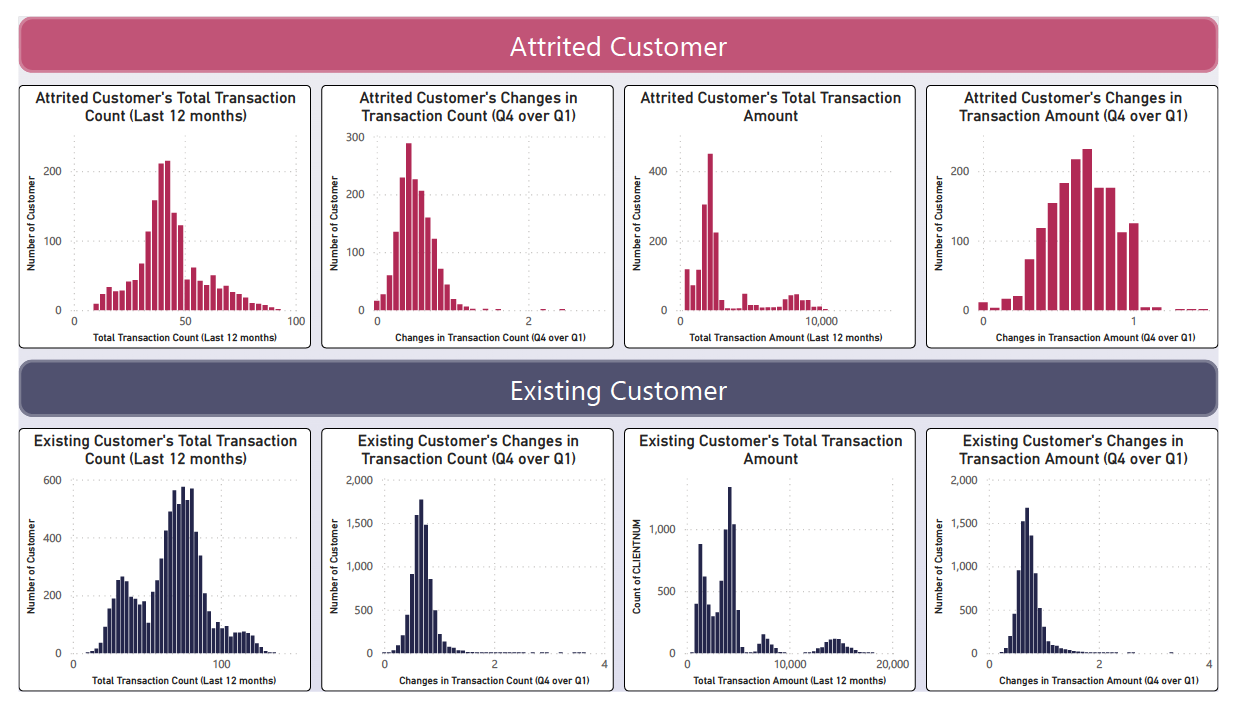

What the dashboard file says about the page in this screenshot:
{"tool":"powerbi","page":{"name":"Transaction Analysis","canvas":[1280,720],"ordinal":3},"visuals":[{"type":"shape","box":[0.5,366.5,1279.8,60.4],"z":0},{"type":"clusteredColumnChart","title":"Existing Customer''s Total Transaction Count (Last 12 months)","fields":{"Category":["BankChurners.Total_Trans_Ct (bins)"],"Y":["CountNonNull(BankChurners.CLIENTNUM)"]},"box":[0.2,439.2,311.6,280.8],"z":1000},{"type":"clusteredColumnChart","title":"Existing Customer''s Changes in Transaction Amount (Q4 over Q1)","fields":{"Category":["BankChurners.Total_Amt_Chng_Q4_Q1 (bins)"],"Y":["CountNonNull(BankChurners.CLIENTNUM)"]},"box":[968.4,439.2,311.6,280.8],"z":2000},{"type":"clusteredColumnChart","title":"Existing Customer''s Total Transaction Amount","fields":{"Category":["BankChurners.Total_Trans_Amt (bins)"],"Y":["CountNonNull(BankChurners.CLIENTNUM)"]},"box":[645.7,439.2,311.6,280.8],"z":3000},{"type":"clusteredColumnChart","title":"Existing Customer''s Changes in Transaction Count (Q4 over Q1)","fields":{"Category":["BankChurners.Total_Ct_Chng_Q4_Q1 (bins)"],"Y":["CountNonNull(BankChurners.CLIENTNUM)"]},"box":[322.9,439.2,311.6,280.8],"z":4000},{"type":"shape","box":[0.2,0,1279.8,60.4],"z":5000},{"type":"clusteredColumnChart","title":"Attrited Customer''s Total Transaction Count (Last 12 months)","fields":{"Category":["BankChurners.Total_Trans_Ct (bins)"],"Y":["CountNonNull(BankChurners.CLIENTNUM)"]},"box":[0.2,73.1,311.6,280.8],"z":6000},{"type":"clusteredColumnChart","title":"Attrited Customer''s Changes in Transaction Amount (Q4 over Q1)","fields":{"Category":["BankChurners.Total_Amt_Chng_Q4_Q1 (bins)"],"Y":["CountNonNull(BankChurners.CLIENTNUM)"]},"box":[968.4,73.1,311.6,280.8],"z":7000},{"type":"clusteredColumnChart","title":"Attrited Customer''s Total Transaction Amount","fields":{"Category":["BankChurners.Total_Trans_Amt (bins)"],"Y":["CountNonNull(BankChurners.CLIENTNUM)"]},"box":[645.7,73.1,311.6,280.8],"z":8000},{"type":"clusteredColumnChart","title":"Attrited Customer''s Changes in Transaction Count (Q4 over Q1)","fields":{"Category":["BankChurners.Total_Ct_Chng_Q4_Q1 (bins)"],"Y":["CountNonNull(BankChurners.CLIENTNUM)"]},"box":[322.9,73.1,311.6,280.8],"z":9000}]}

Visuals, with their boxes in screenshot pixels (x1, y1, x2, y2), scaled from the page's 1280x720 canvas onto the 1237x710 screenshot:
shape: 0, 361, 1236, 421
"Existing Customer''s Total Transaction Count (Last 12 months)" clusteredColumnChart: 0, 433, 301, 709
"Existing Customer''s Changes in Transaction Amount (Q4 over Q1)" clusteredColumnChart: 936, 433, 1236, 709
"Existing Customer''s Total Transaction Amount" clusteredColumnChart: 624, 433, 925, 709
"Existing Customer''s Changes in Transaction Count (Q4 over Q1)" clusteredColumnChart: 312, 433, 613, 709
shape: 0, 0, 1236, 60
"Attrited Customer''s Total Transaction Count (Last 12 months)" clusteredColumnChart: 0, 72, 301, 349
"Attrited Customer''s Changes in Transaction Amount (Q4 over Q1)" clusteredColumnChart: 936, 72, 1236, 349
"Attrited Customer''s Total Transaction Amount" clusteredColumnChart: 624, 72, 925, 349
"Attrited Customer''s Changes in Transaction Count (Q4 over Q1)" clusteredColumnChart: 312, 72, 613, 349
